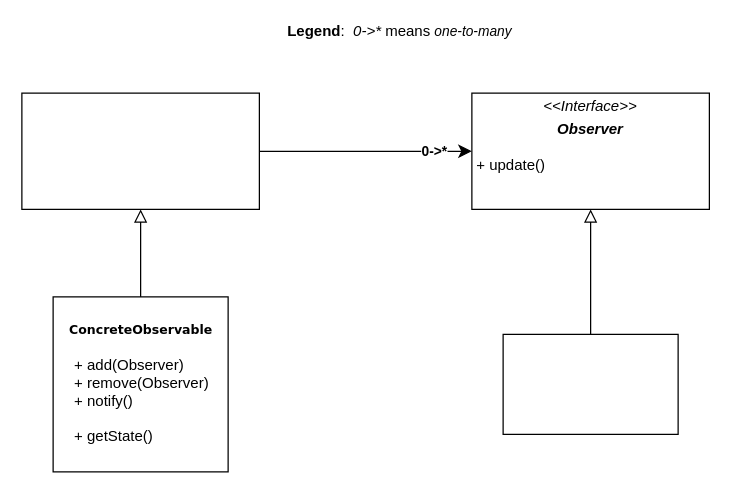
This 731x494 diagram has some shape labels left out. The shapes that lost their labels are listed below. From the top down, each one's centre as x and y in pixels, then its label:
At point (140, 150): "<<Interface>> Observable + add(Observer) + remove(Observer) + notify()".
At point (590, 383): "ConcreteObserver + update ()".
